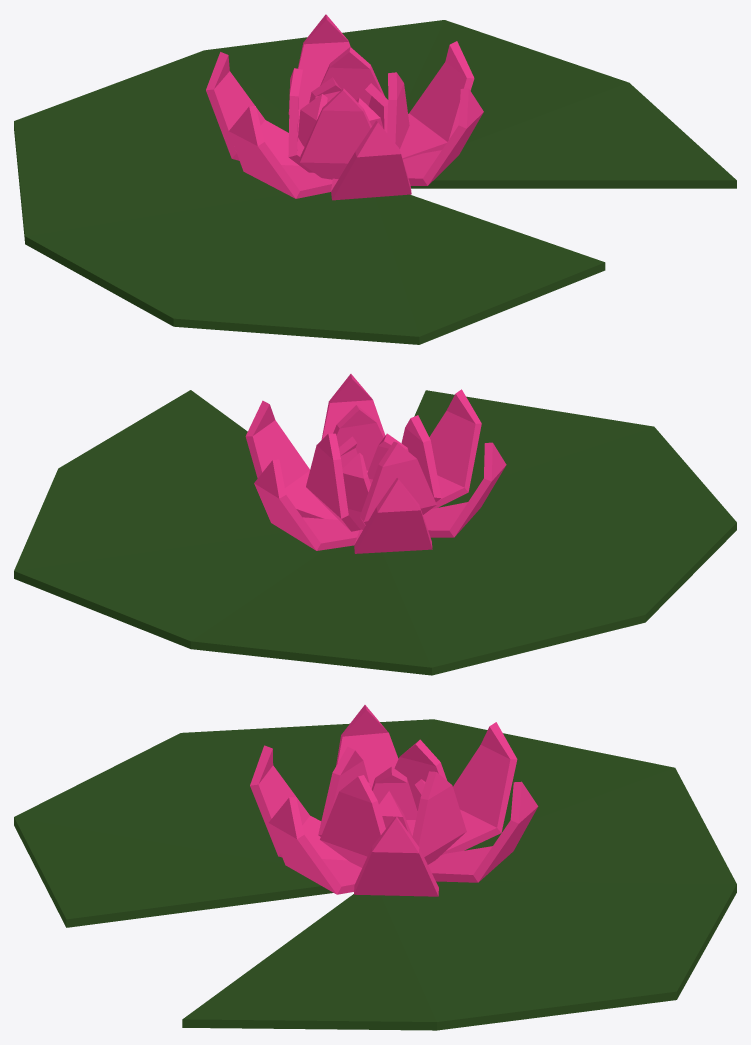
Rendered from Lilypad.glb.
3 renders of one model, top to bottom at view 1: azimuth 30°, elevation 25°; view 2: azimuth 150°, elevation 25°; view 3: azimuth 270°, elevation 25°, orthographic. The views are drawn at different scales.
Visible parts, largest first — view 1: Lilypad; view 2: Lilypad; view 3: Lilypad.
Boxes of the visible parts, box(x1,y1,x2,y2) form: Lilypad: box(14, 14, 736, 344); Lilypad: box(14, 374, 736, 675); Lilypad: box(14, 705, 736, 1030).
Bounding box in the file's own units: 120 × 22.09 × 119.
